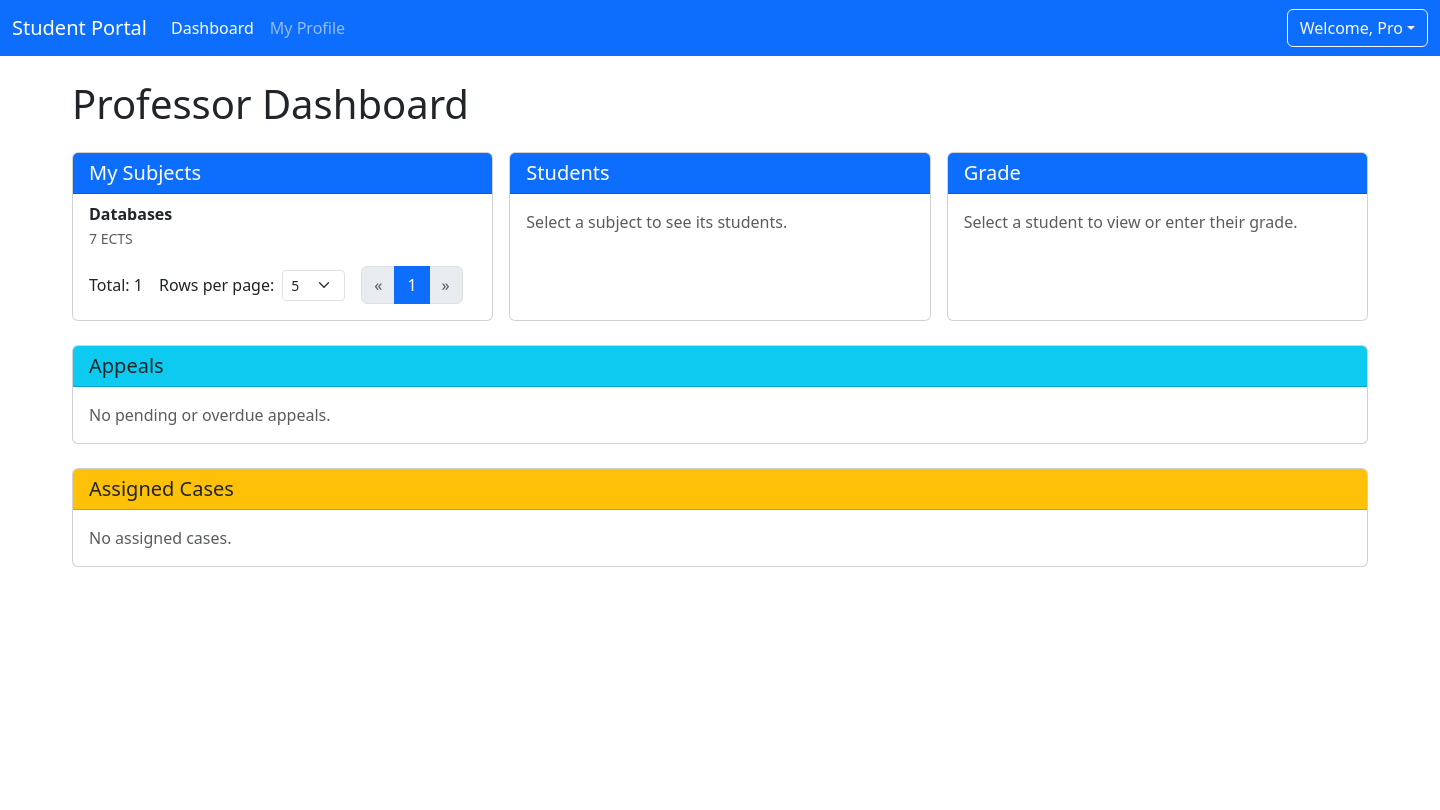
Test case: ProfessorDashboardPage (§5.4) › when a student is clicked then the grading panel loads with 5 inputs (step=0.5)
Click the text "Databases" at (131, 214), box [89,203,172,225]
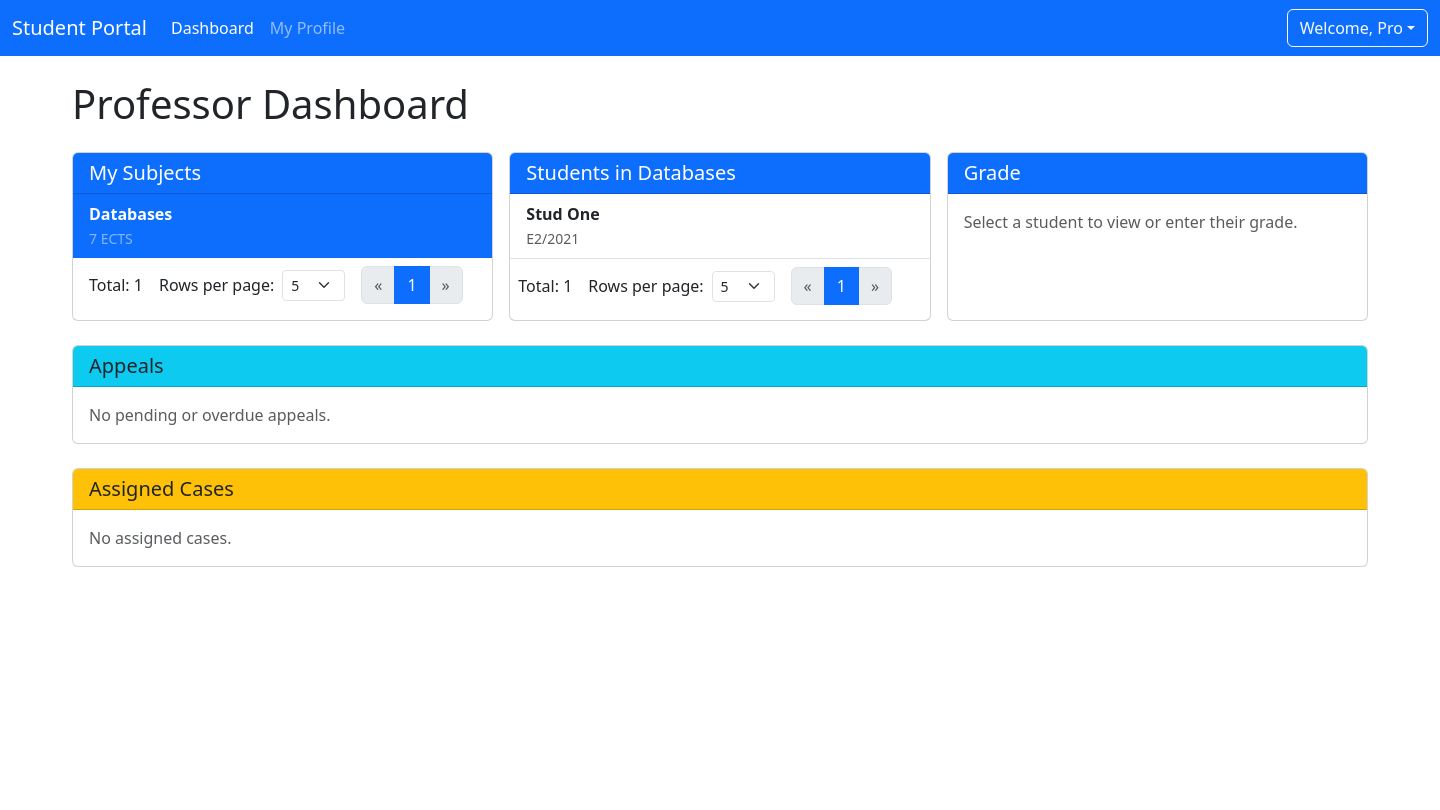
Click the text "Stud One" at (563, 214), box [526,203,600,225]
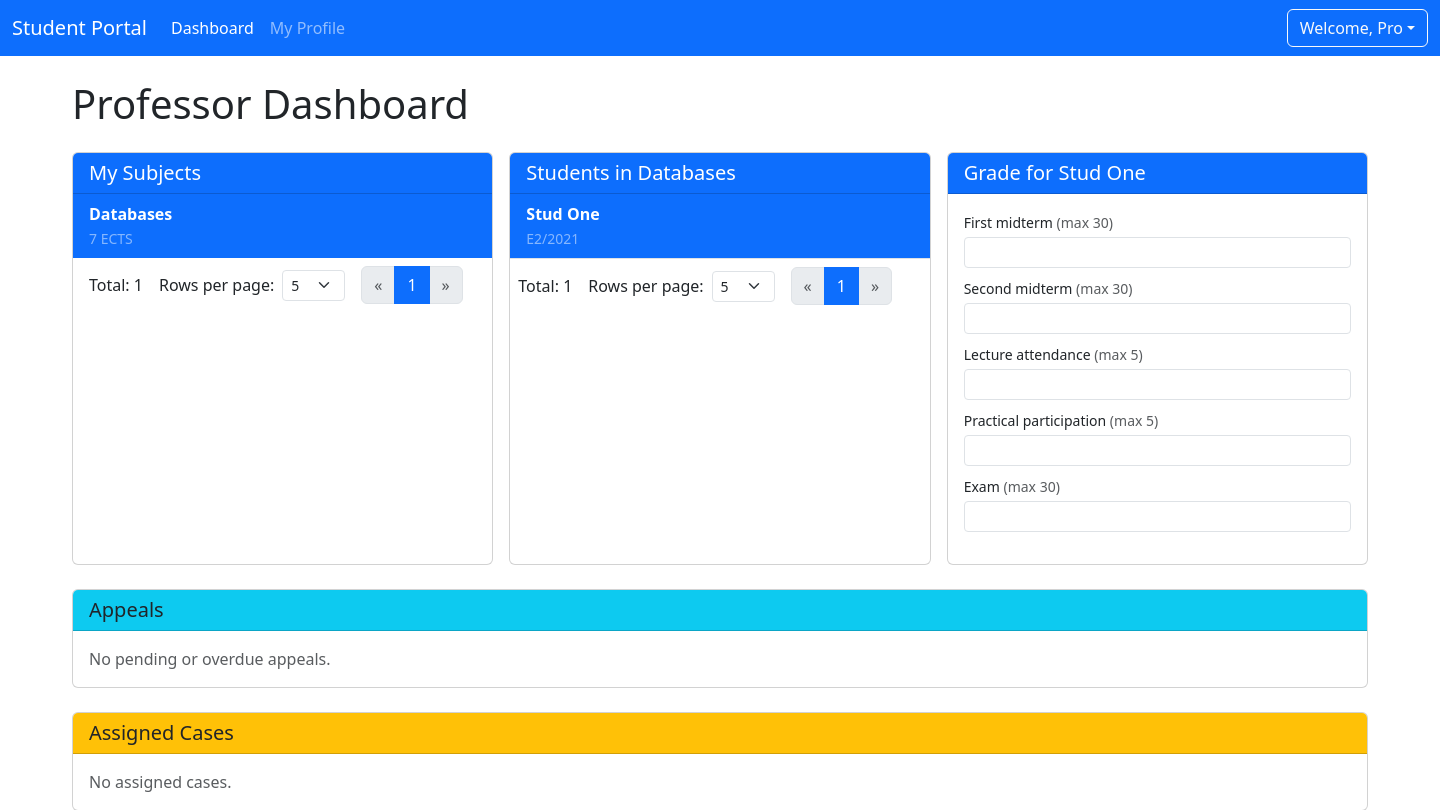
Result: the number of number fields is 5 at [964,237,1351,268]; [964,303,1351,334]; [964,369,1351,400]; [964,435,1351,466]; [964,501,1351,532]
